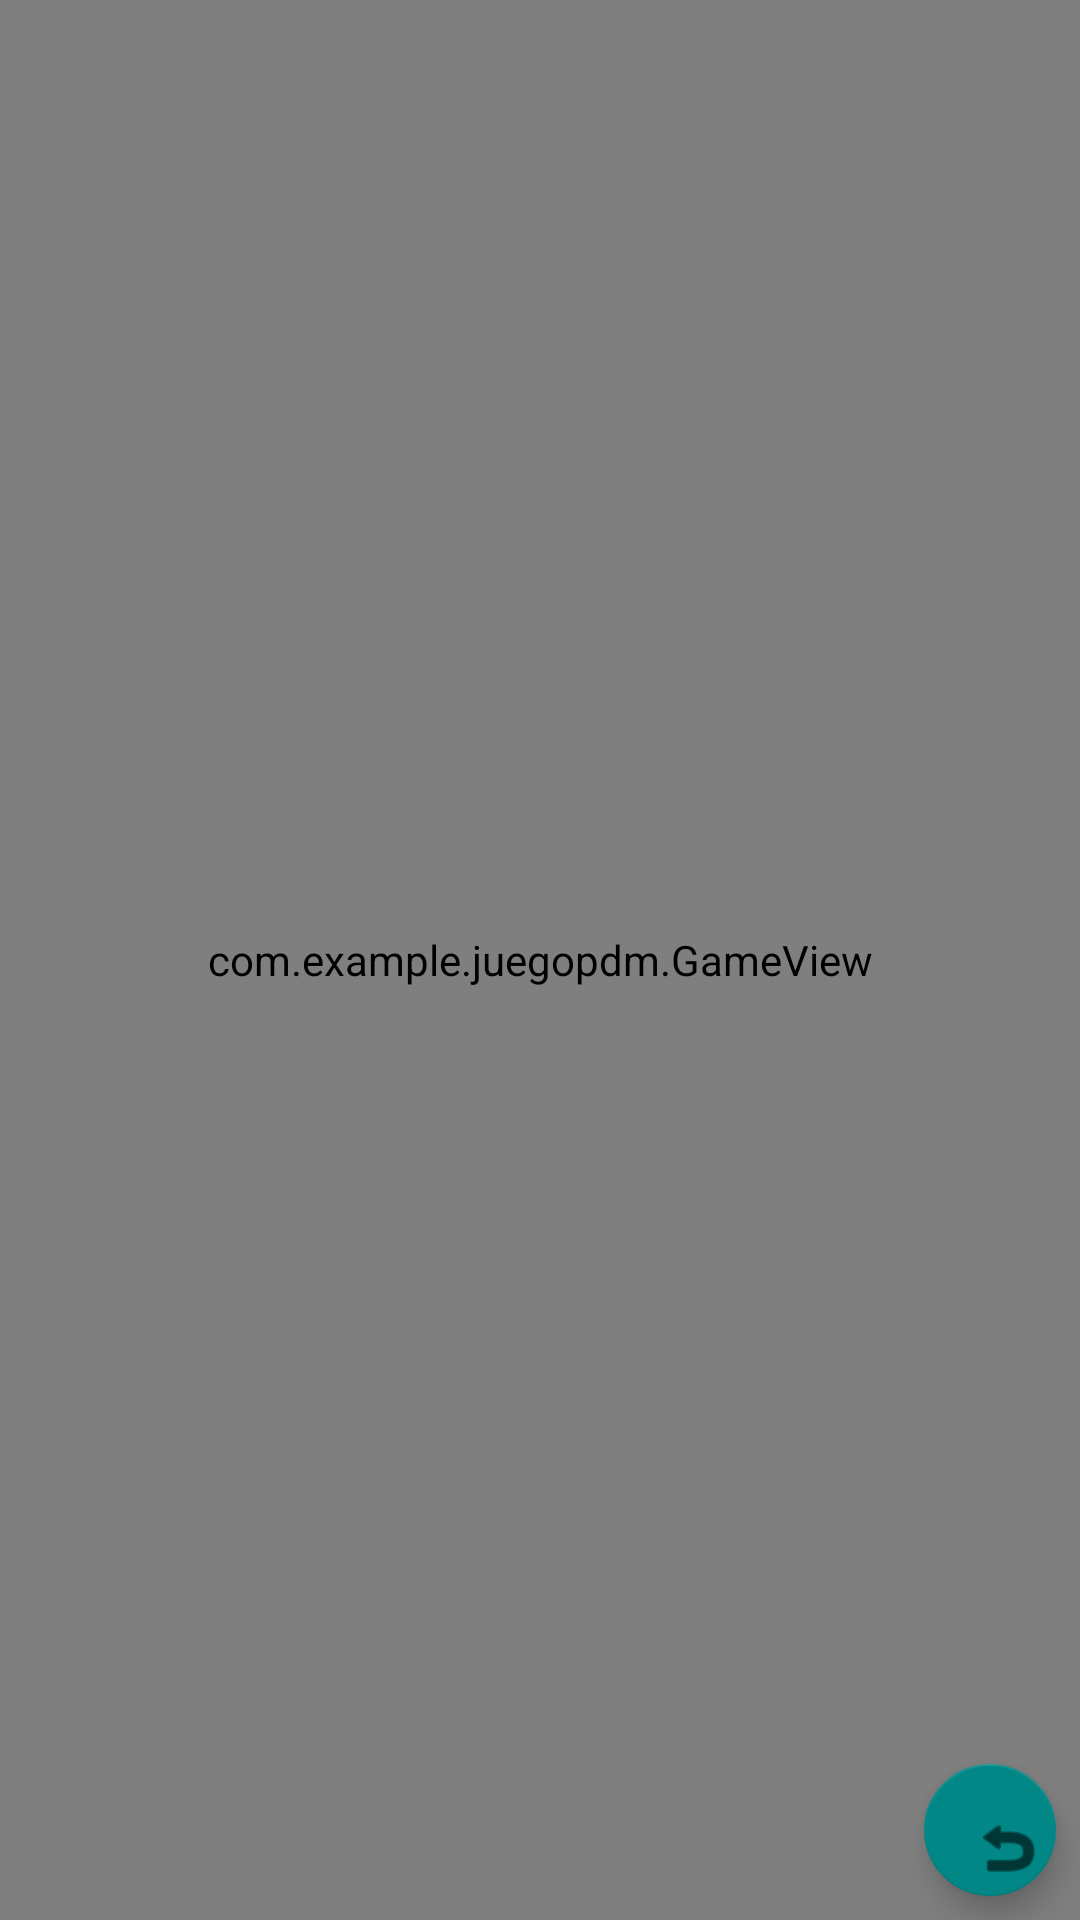

Icons on this 1080 x 1920 Android screen, each with its box as (x1, y1, x2, y2):
revert: (924, 1764, 1056, 1896)
